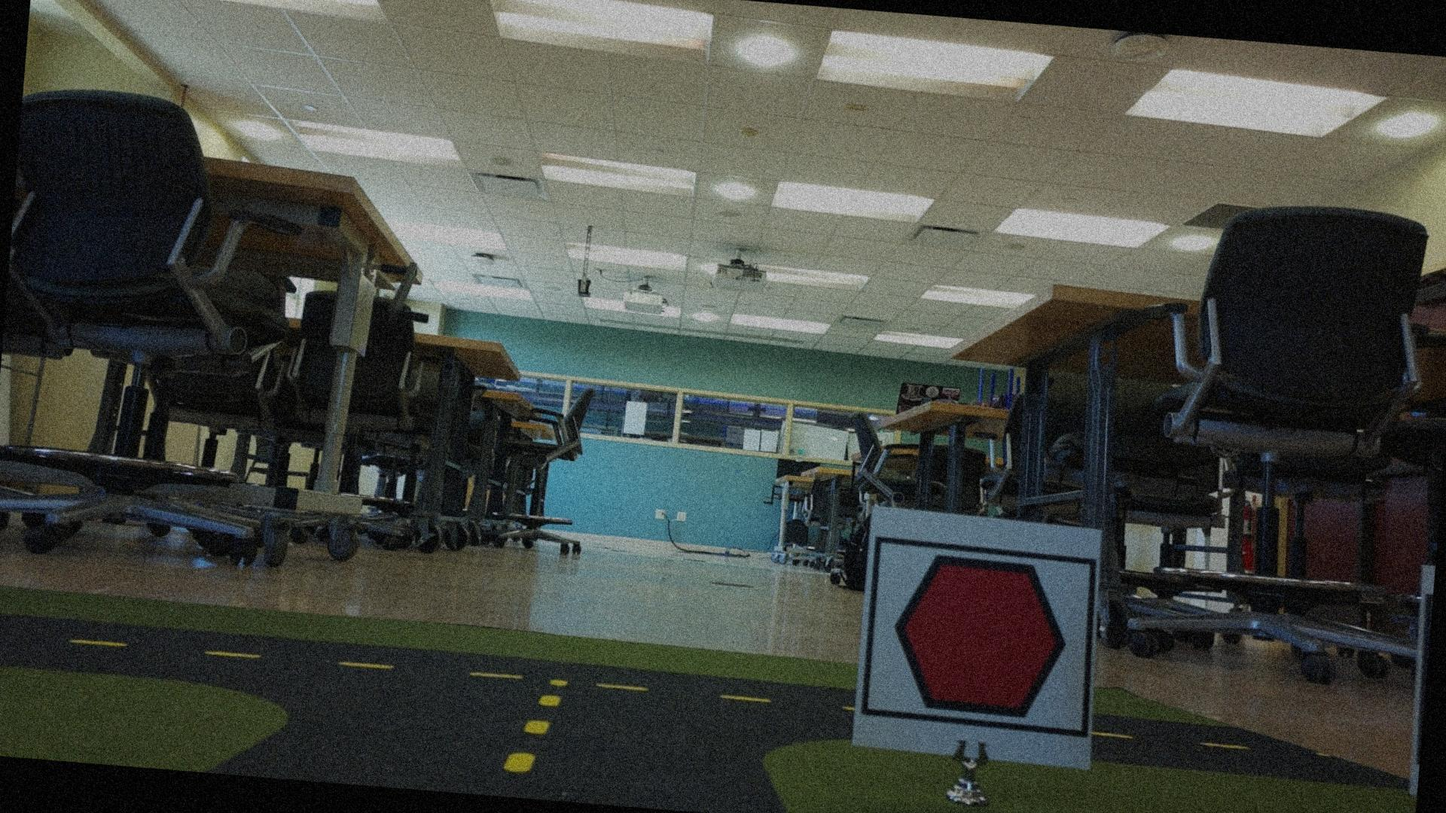stop: (873, 544, 1086, 729)
yellowline: (503, 671, 565, 780)
